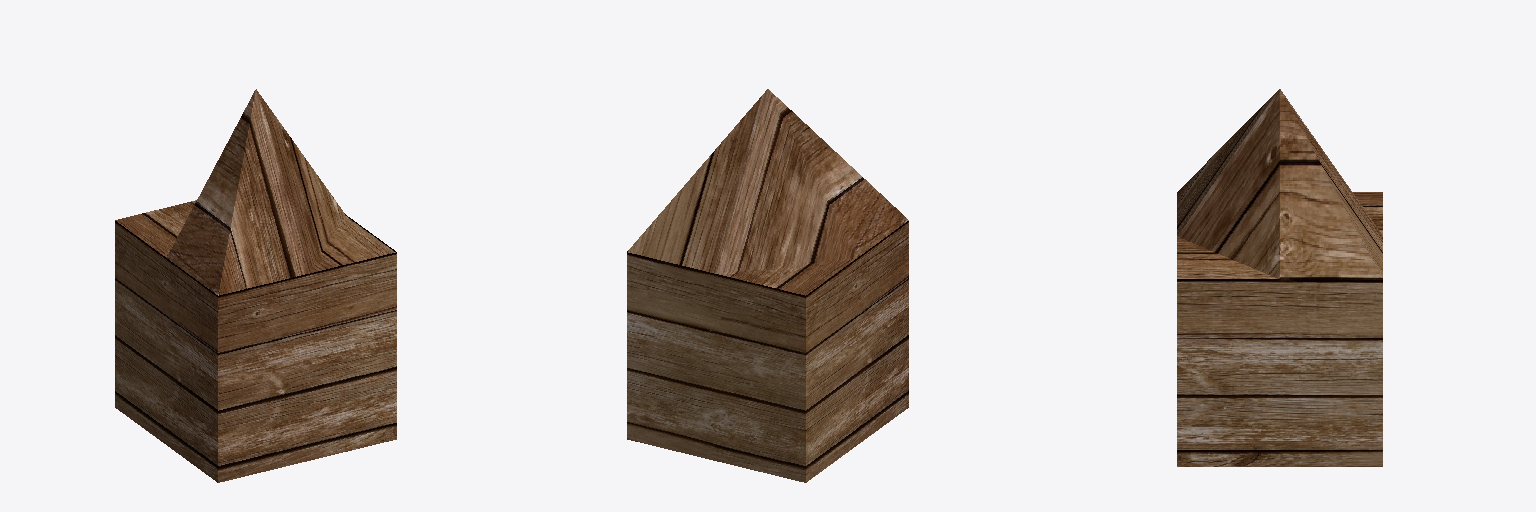
3 renders of one model, left to right at view 1: azimuth 30°, elevation 25°; view 2: azimuth 150°, elevation 25°; view 3: azimuth 270°, elevation 25°, orthographic.
Parts seen in each view (by area): view 1: Cube.001; view 2: Cube.001; view 3: Cube.001.
Part boxes in pixels (bbox=[...]): Cube.001: bbox=[115, 89, 396, 482]; Cube.001: bbox=[627, 89, 908, 482]; Cube.001: bbox=[1177, 89, 1382, 466].
Size of the model in its own units: 2 by 3.58 by 2.
Materials: 1 (1 with a texture image).